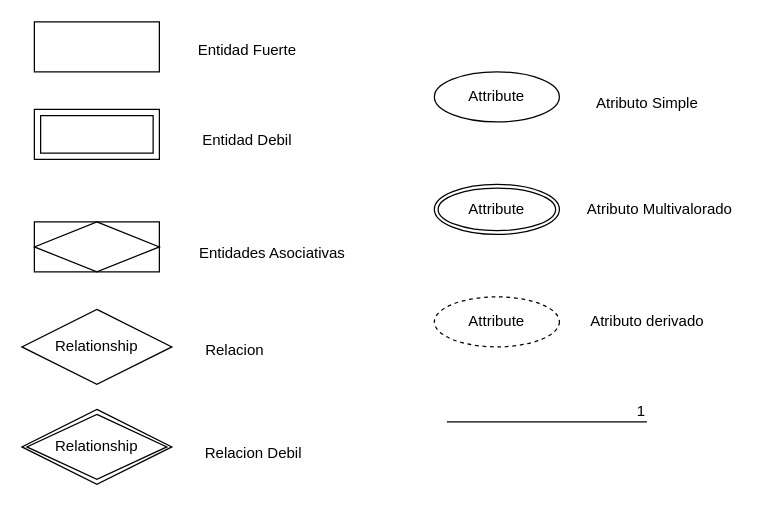
The diagram is 769 pixels wide and 506 high, and some of its shapes have lost their labels. Each missing label, with the centre of its shape:
"Associative Entity" belongs at point (96, 246).
"Entity" belongs at point (96, 133).
"Usuario" belongs at point (96, 46).
